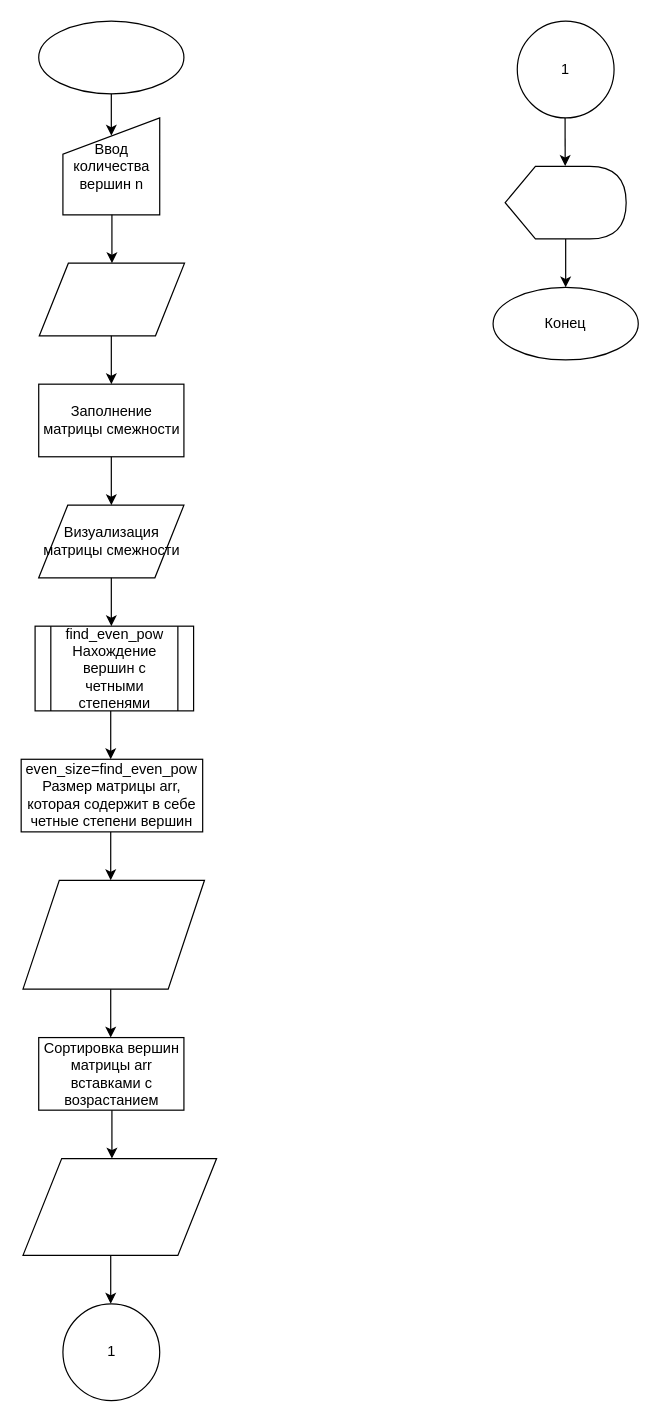
Some shapes in this 659 by 1422 pixel diagram are drawn without their labels. The shapes that lost their labels are listed below. From the top down, each one's centre as x and y in pixels, then its label:
At point 111,57: "Начало".
At point 565,202: "Визуализация графа".
At point 111,299: "Объявление матрицу смежности matrix[i][j]".
At point 113,934: "Вывод вершин с четными степнями и их степеней".
At point 119,1206: "Вывод отсортированных вершин с четными степенями по их возрастанию".
